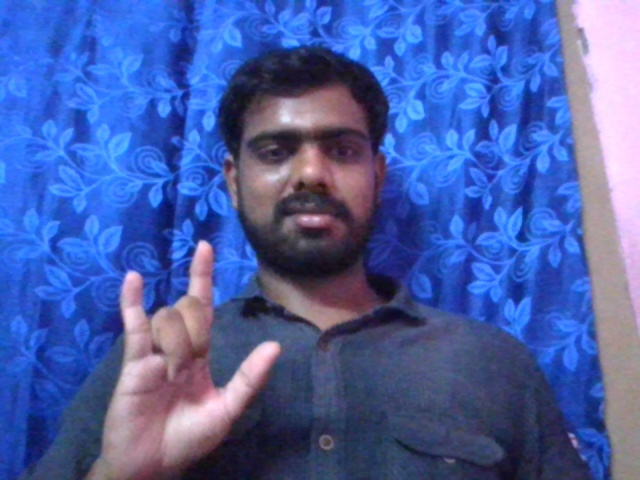IloveYou: (103, 237, 289, 473)
